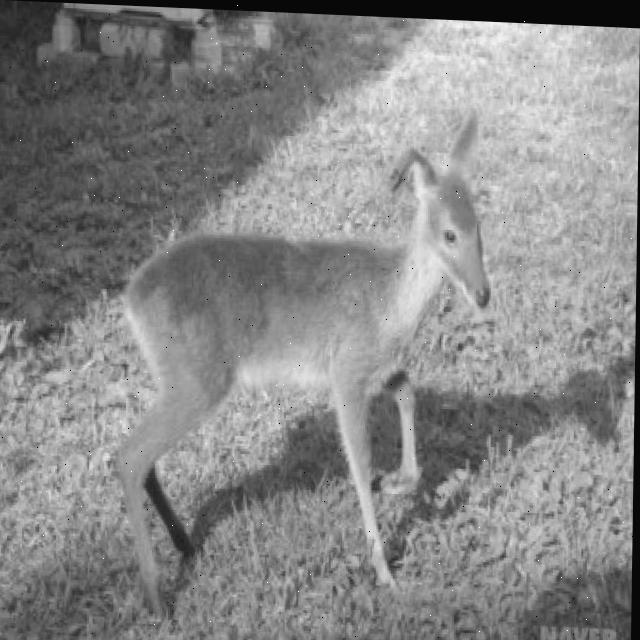Deer: (102, 84, 492, 640)
